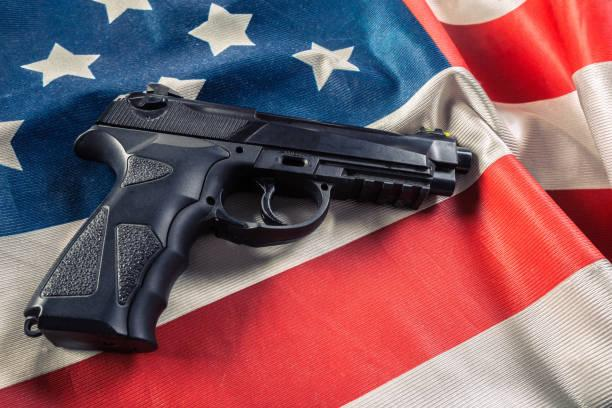weapon: (20, 81, 478, 356)
